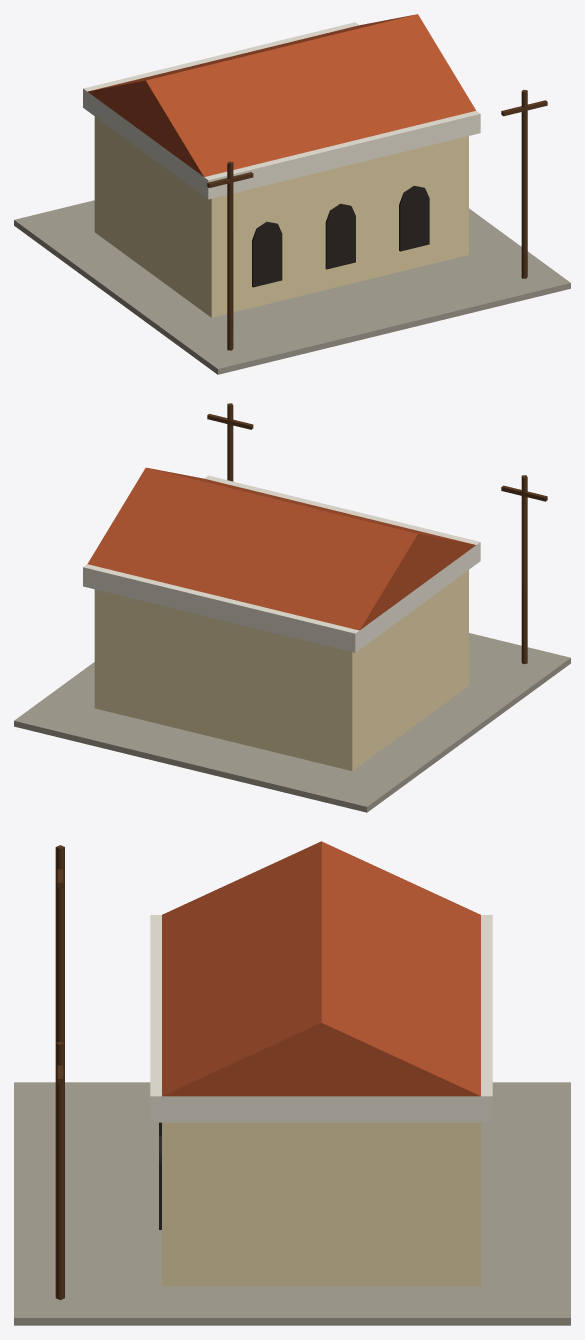
File: building_pejabat_pos.glb
The picture shows the model from 3 angles, top to bottom: view 1: azimuth 30°, elevation 25°; view 2: azimuth 150°, elevation 25°; view 3: azimuth 270°, elevation 25°; orthographic projection. The views are drawn at different scales.
Parts seen in each view (by area): view 1: building_pejabat_pos; view 2: building_pejabat_pos; view 3: building_pejabat_pos.
Boxes of the visible parts, bbox=[...] form: building_pejabat_pos: bbox=[14, 14, 570, 374]; building_pejabat_pos: bbox=[14, 403, 570, 812]; building_pejabat_pos: bbox=[14, 841, 570, 1325].
Size of the model in its own units: 0.96 by 0.525 by 0.96.
